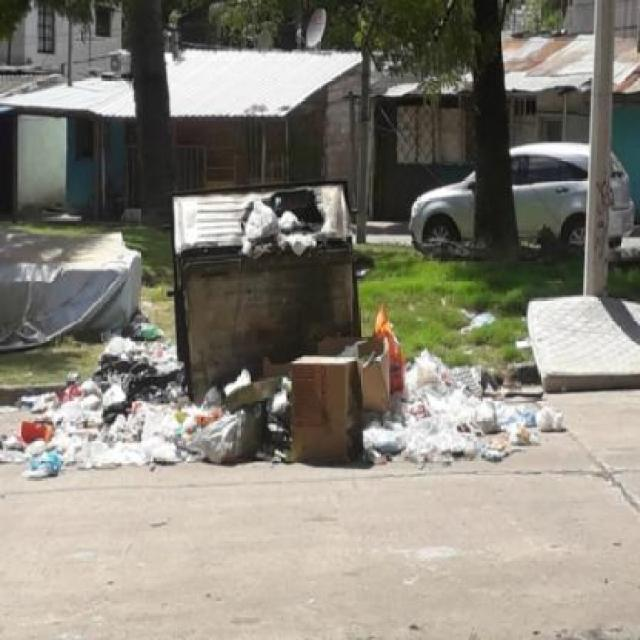garbage: (9, 309, 574, 473), (232, 192, 323, 256)
